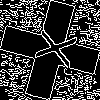X: (25, 25, 77, 69)
